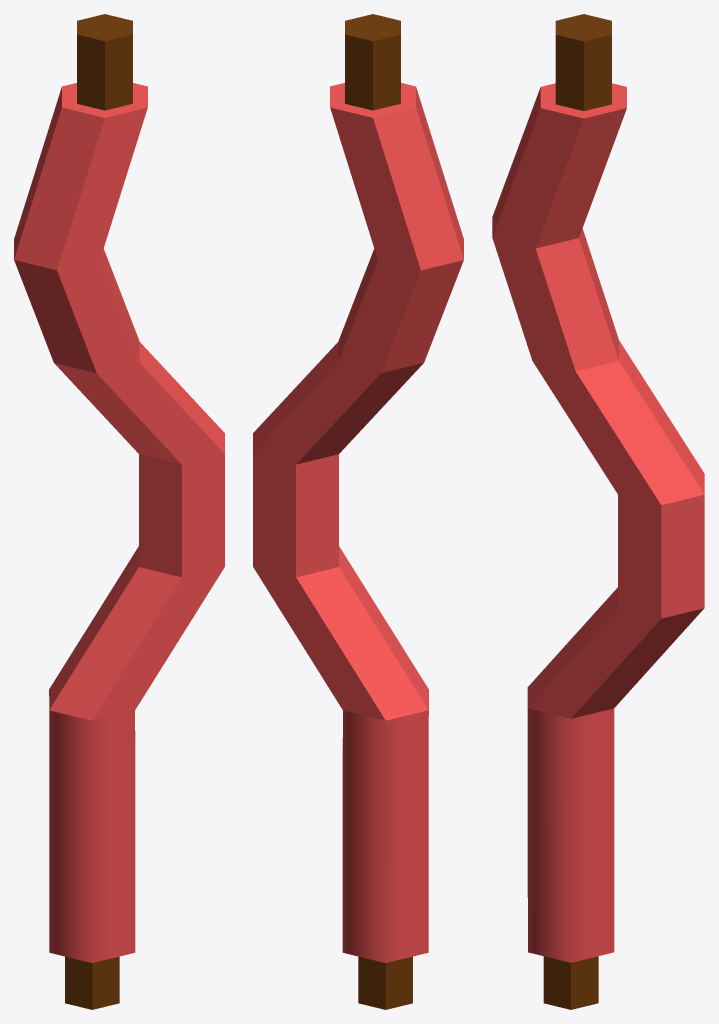
File: brokenWires.obj
The picture shows the model from 3 angles, left to right: view 1: azimuth 30°, elevation 25°; view 2: azimuth 150°, elevation 25°; view 3: azimuth 330°, elevation 25°; orthographic projection.
Parts seen in each view (by area): view 1: brokenWires; view 2: brokenWires; view 3: brokenWires.
Boxes of the visible parts, x1,y1,x2,y2 form: brokenWires: [14, 14, 224, 1009]; brokenWires: [253, 14, 463, 1009]; brokenWires: [492, 14, 704, 1009].
Bounding box in the file's own units: 0.0613 × 0.2684 × 0.0217.
